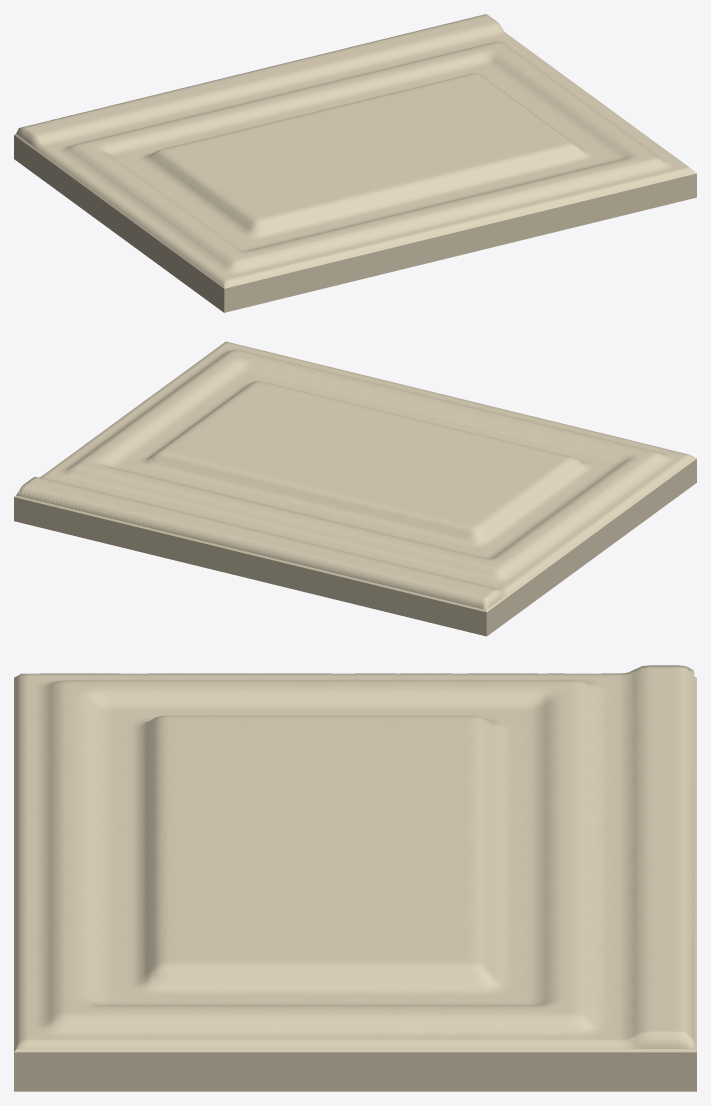
The model's file is mahsulot.glb.
3 views of the same model, one above another, from view 1: azimuth 30°, elevation 25°; view 2: azimuth 150°, elevation 25°; view 3: azimuth 270°, elevation 25° (orthographic). The views are drawn at different scales.
Parts seen in each view (by area): view 1: mahsulot; view 2: mahsulot; view 3: mahsulot.
Part boxes in pixels (x1=…): mahsulot: x1=14, y1=14, x2=696, y2=312; mahsulot: x1=14, y1=341, x2=696, y2=636; mahsulot: x1=14, y1=665, x2=696, y2=1091.
Bounding box in the file's own units: 0.5 × 0.0399 × 0.385.
